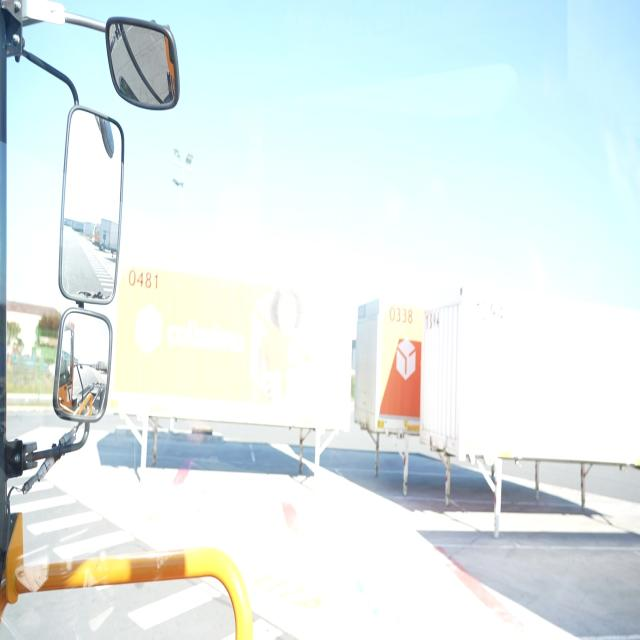Code: (127, 261, 163, 293), (384, 298, 418, 331)
